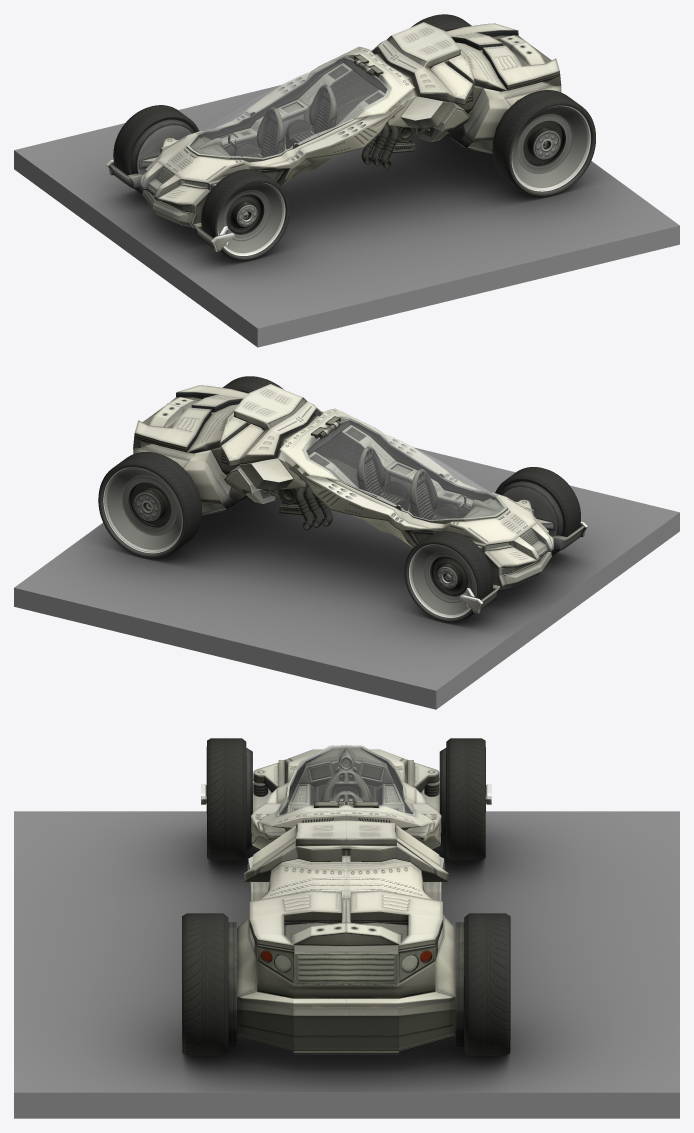
3 renders of one model, top to bottom at view 1: azimuth 30°, elevation 25°; view 2: azimuth 150°, elevation 25°; view 3: azimuth 270°, elevation 25°, orthographic. The views are drawn at different scales.
Visible parts, largest first — view 1: Plane.004, Speed_car.007, Speed_car.000, Cube.045, Cube.044; view 2: Plane.004, Speed_car.007, Speed_car.000, Cube.045, Cube.044; view 3: Plane.004, Speed_car.007, Cube.044, Speed_car.000, Cube.045.
Boxes of the visible parts, box(x1,y1,x2,y2) form: Plane.004: box(14, 85, 679, 347); Speed_car.007: box(140, 22, 561, 228); Speed_car.000: box(106, 105, 289, 260); Cube.045: box(189, 56, 387, 158); Cube.044: box(411, 14, 595, 196); Plane.004: box(14, 447, 679, 709); Speed_car.007: box(133, 384, 553, 590); Speed_car.000: box(404, 467, 587, 622); Cube.045: box(306, 418, 504, 520); Cube.044: box(98, 376, 283, 558); Plane.004: box(14, 811, 679, 1118); Speed_car.007: box(228, 745, 464, 1054); Cube.044: box(182, 913, 510, 1055); Speed_car.000: box(201, 738, 491, 860); Cube.045: box(279, 746, 414, 815).
Bounding box in the file's own units: 6.8 × 2.31 × 6.8.
Materials: 4 (2 with a texture image).
